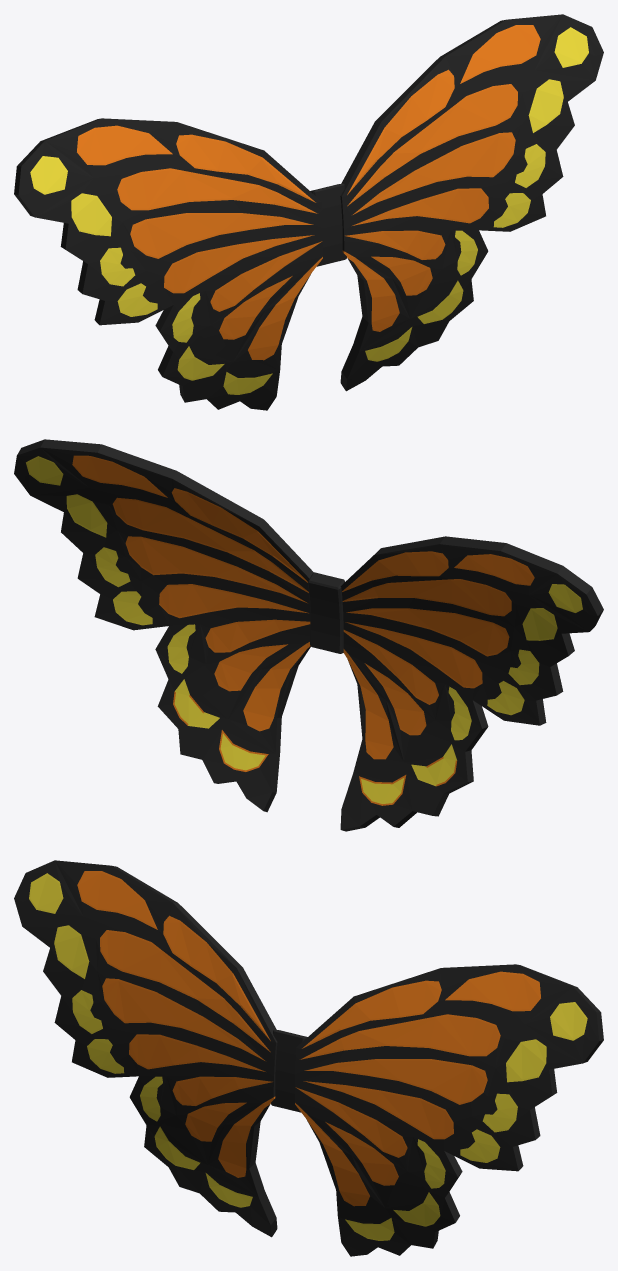
The model's file is Backpack_001.glb.
The picture shows the model from 3 angles, top to bottom: view 1: azimuth 30°, elevation 25°; view 2: azimuth 150°, elevation 25°; view 3: azimuth 330°, elevation 25°; orthographic projection.
Parts seen in each view (by area): view 1: Backpack_001; view 2: Backpack_001; view 3: Backpack_001.
Part boxes in pixels (box(x1,y1,x2,y2)): Backpack_001: box(14, 14, 603, 410); Backpack_001: box(14, 439, 603, 831); Backpack_001: box(14, 860, 603, 1256).
Bounding box in the file's own units: 1.7 × 0.9166 × 0.1747.
Materials: 1 (1 with a texture image).
